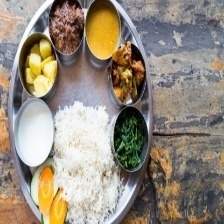dal: (83, 6, 121, 59)
